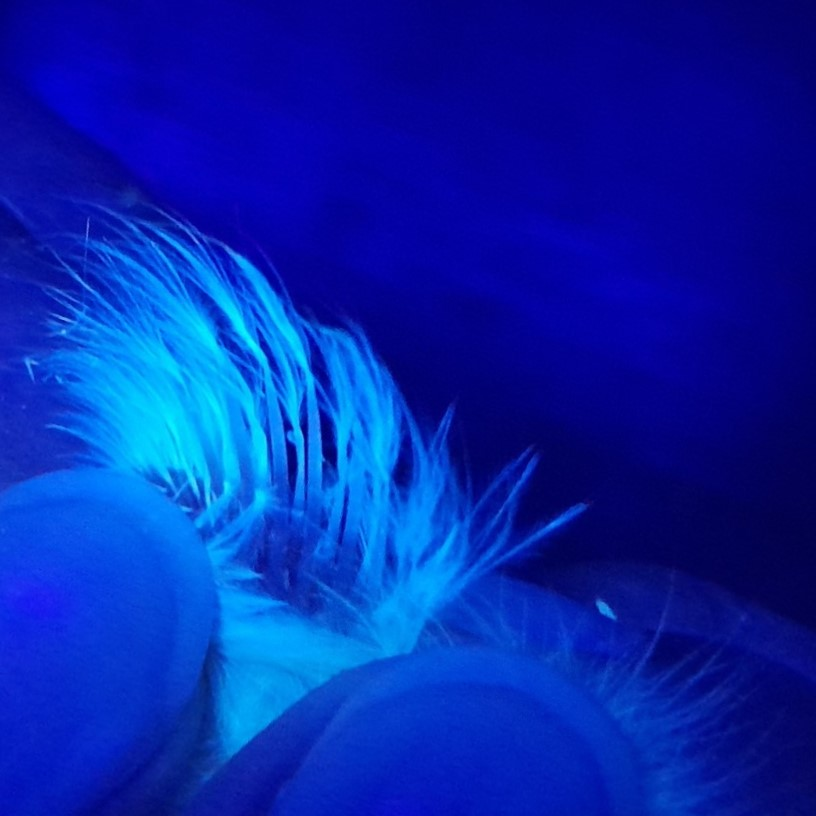male: (190, 338, 440, 622)
